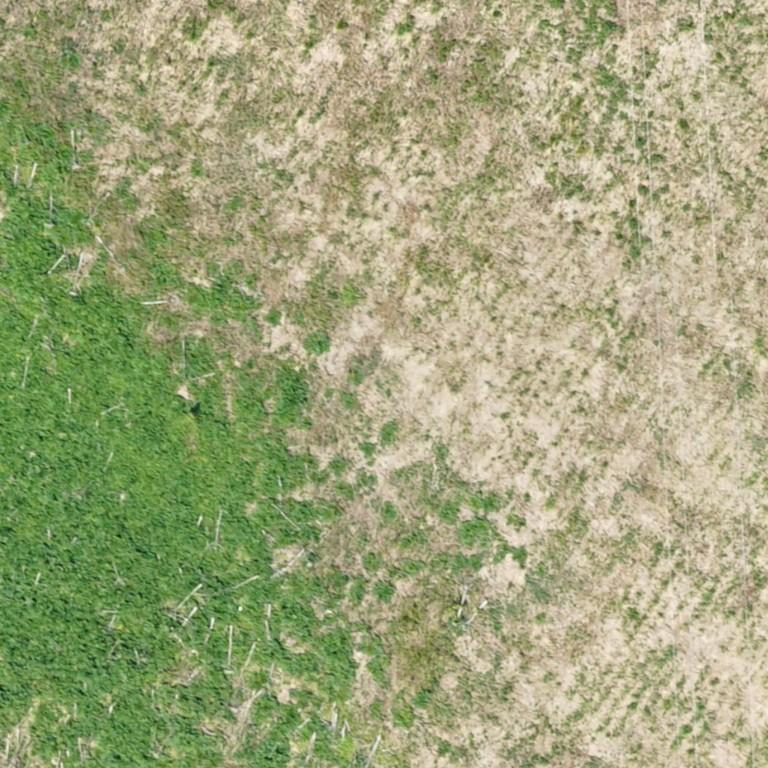hogweed: (191, 275, 253, 310), (277, 368, 306, 423), (185, 339, 211, 373), (304, 333, 328, 353)
